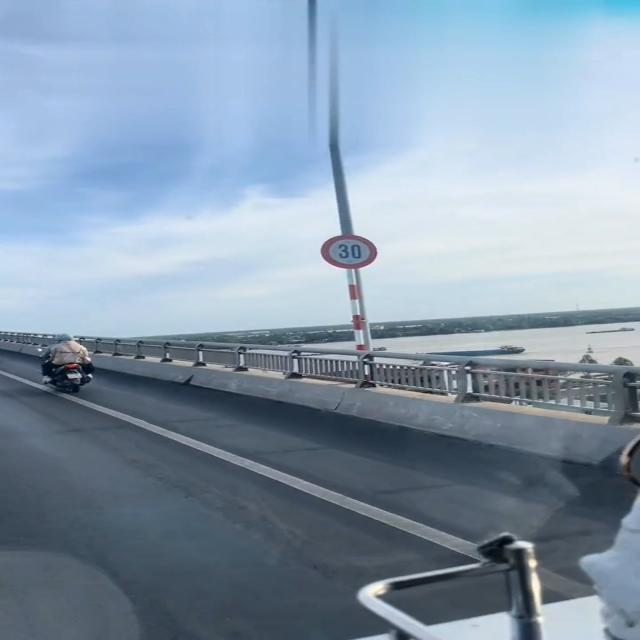127-toc-do-toi-da-30: (320, 234, 378, 268)
